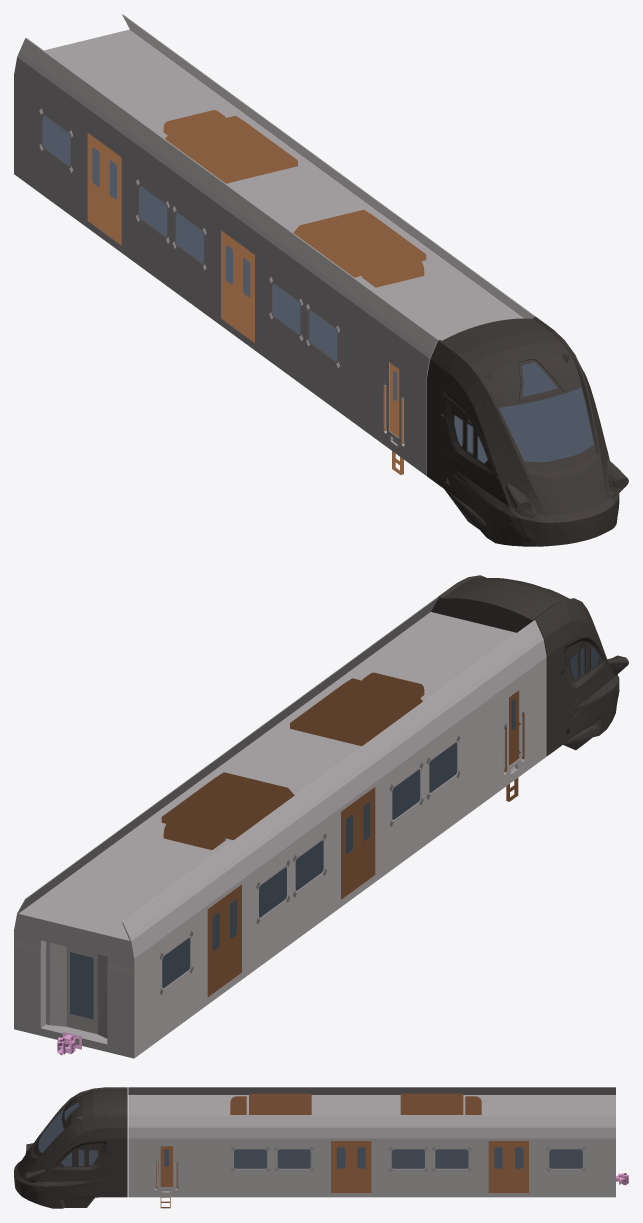
File: Vagon2_1.obj
The picture shows the model from 3 angles, top to bottom: view 1: azimuth 30°, elevation 25°; view 2: azimuth 150°, elevation 25°; view 3: azimuth 270°, elevation 25°; orthographic projection. The views are drawn at different scales.
Visible parts, largest first — view 1: Vagon001, Cabina001, Puertas001, Ventanas001; view 2: Vagon001, Puertas001, Cabina001, Ventanas001; view 3: Vagon001, Cabina001, Puertas001, Ventanas001.
Part boxes in pixels (x1=…): Vagon001: x1=14, y1=14, x2=535, y2=475; Cabina001: x1=427, y1=316, x2=628, y2=546; Puertas001: x1=87, y1=110, x2=426, y2=474; Ventanas001: x1=42, y1=115, x2=593, y2=463; Vagon001: x1=14, y1=596, x2=546, y2=1058; Puertas001: x1=161, y1=672, x2=524, y2=996; Cabina001: x1=431, y1=575, x2=628, y2=755; Ventanas001: x1=70, y1=646, x2=599, y2=1019; Vagon001: x1=128, y1=1087, x2=628, y2=1197; Cabina001: x1=14, y1=1087, x2=127, y2=1208; Puertas001: x1=156, y1=1093, x2=528, y2=1208; Ventanas001: x1=38, y1=1102, x2=582, y2=1168.
Bounding box in the file's own units: 47.09 × 57.67 × 341.
5 materials, 4 textured.
